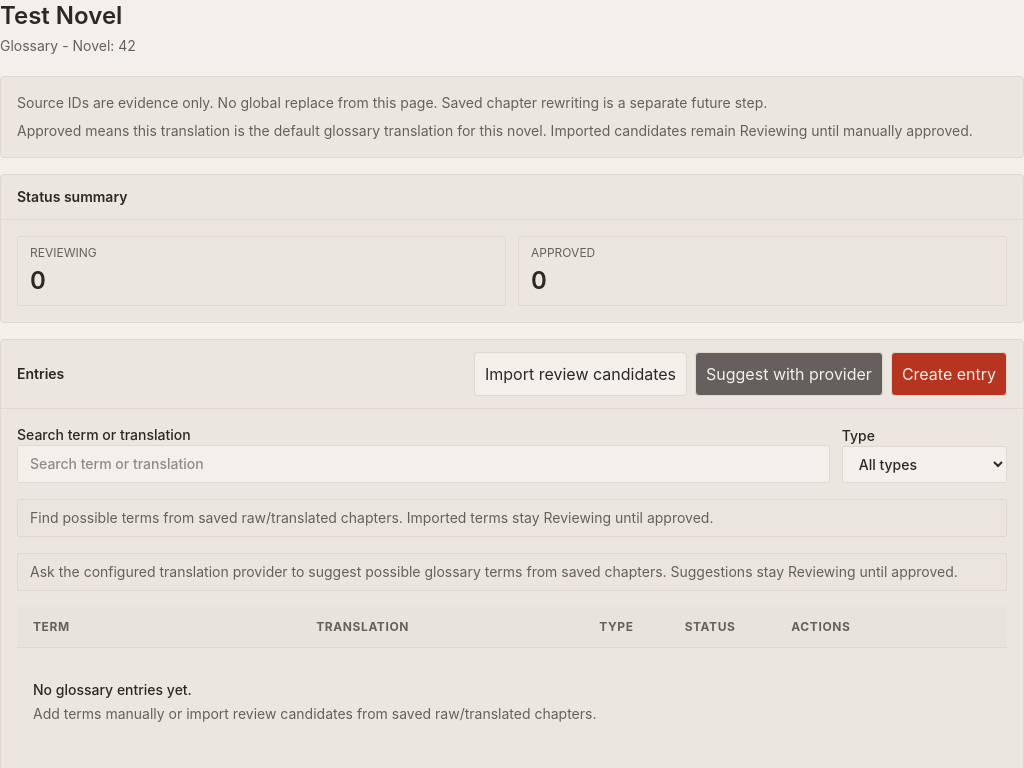
AdminGlossaryShell › opens the import review candidates dialog with default max candidate controls
Click the button "Import review candidates" at (580, 374), box x1=474 y1=352 x2=687 y2=396
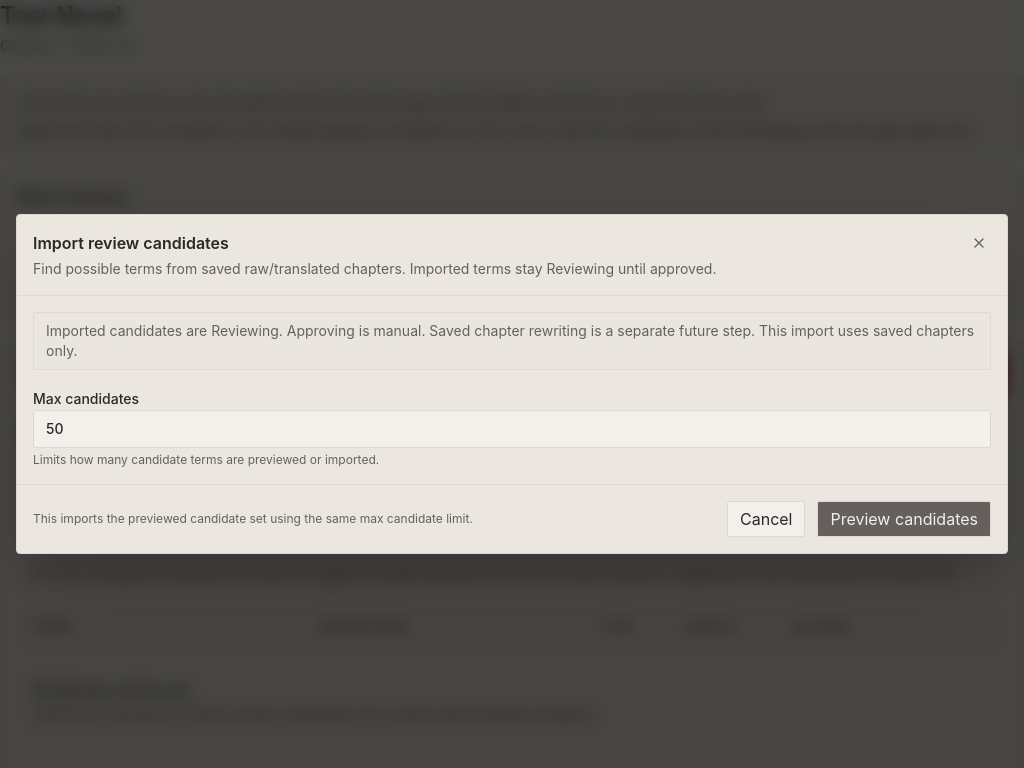
Check: the text "Find possible terms from saved raw/translated chapters. Imported terms stay Reviewing until approved." is shown, box x1=33 y1=260 x2=716 y2=277
Check: the number field labelled "Max candidates" holds "50", box x1=33 y1=410 x2=991 y2=448
Check: the text "Limits how many candidate terms are previewed or imported." is shown, box x1=33 y1=452 x2=379 y2=467
